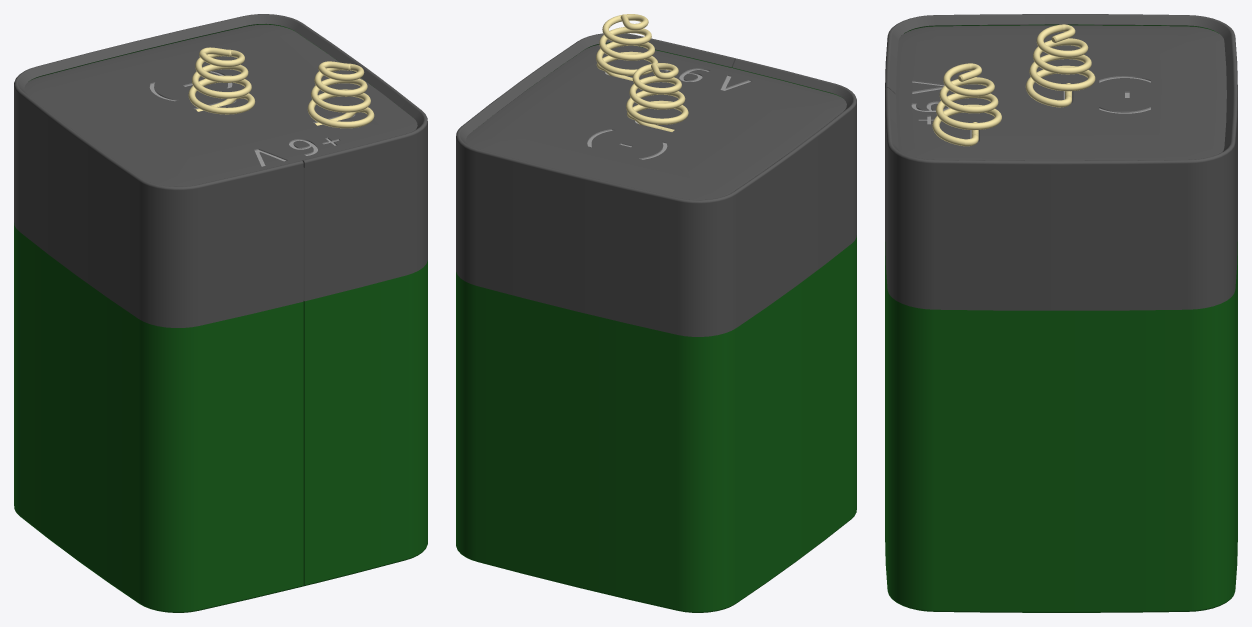
File: Battery.fbx
3 views of the same model, side by side, from view 1: azimuth 30°, elevation 25°; view 2: azimuth 150°, elevation 25°; view 3: azimuth 270°, elevation 25° (orthographic). The views are drawn at different scales.
Visible parts, largest first — view 1: Body1 (×5); view 2: Body1 (×5); view 3: Body1 (×5).
Part boxes in pixels (x1=…): Body1 (×5): x1=14, y1=14, x2=427, y2=612; Body1 (×5): x1=456, y1=14, x2=856, y2=612; Body1 (×5): x1=885, y1=14, x2=1237, y2=612.
Bounding box in the file's own units: 2.69 × 4.26 × 2.69.
